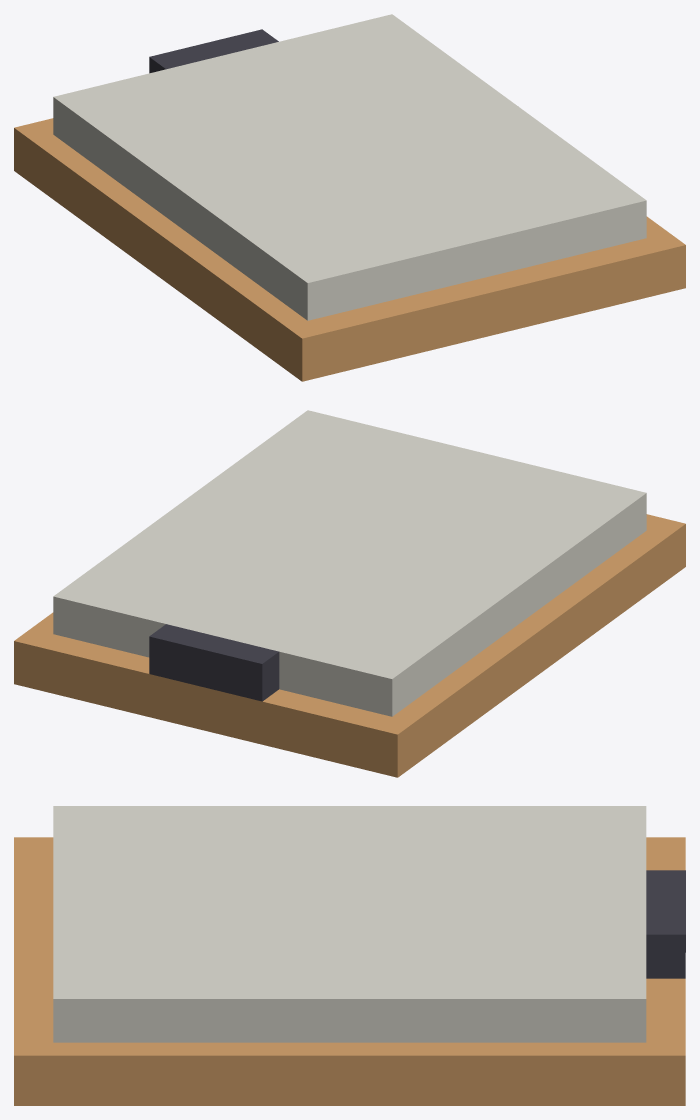
Rendered from Lab_BlocPaper.glb.
3 views of the same model, one above another, from view 1: azimuth 30°, elevation 25°; view 2: azimuth 150°, elevation 25°; view 3: azimuth 270°, elevation 25° (orthographic). The views are drawn at different scales.
Parts seen in each view (by area): view 1: PorteBloc; view 2: PorteBloc; view 3: PorteBloc.
Boxes of the visible parts, x1,y1,x2,y2 form: PorteBloc: (14,14,685,381); PorteBloc: (14,410,685,777); PorteBloc: (14,806,685,1105).
Size of the model in its own units: 0.416 by 0.0837 by 0.5413.
